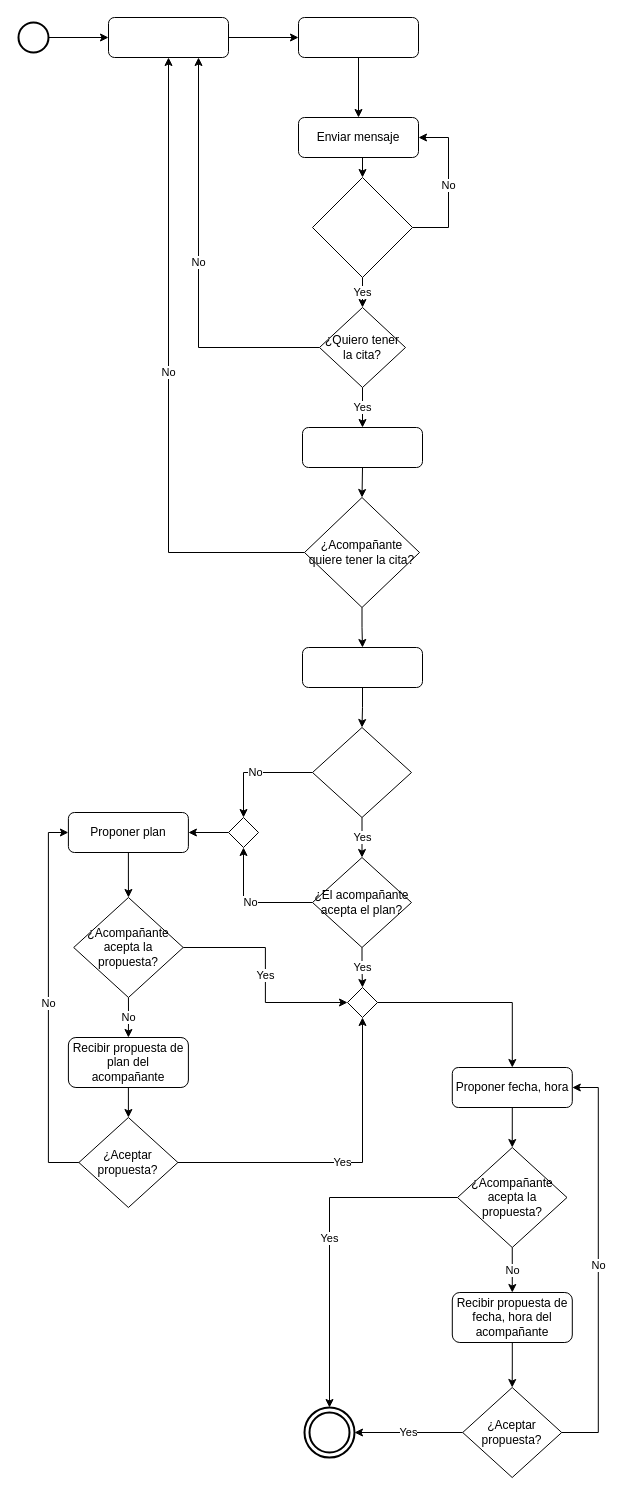
Image size: 624x1495. Some labels were removed from this diagram. Here are the shapes that lost their labels. From the top down, the centre of each, then its label:
pixel 168 37: Espera nuevo chat
pixel 358 37: Asignar nuevo chat
pixel 362 227: ¿Límite de mensajes alcanzado?
pixel 362 447: Esperar decisión acompañante
pixel 362 667: Sistema sugiere plan
pixel 362 772: ¿Acepto el plan?
